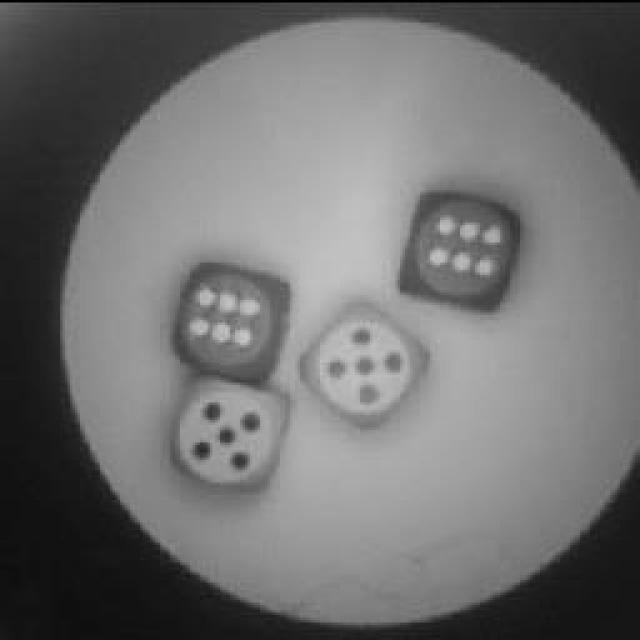dice_5: (298, 292, 432, 432), (168, 370, 290, 488)
dice_6: (395, 185, 525, 315), (172, 258, 300, 378)
